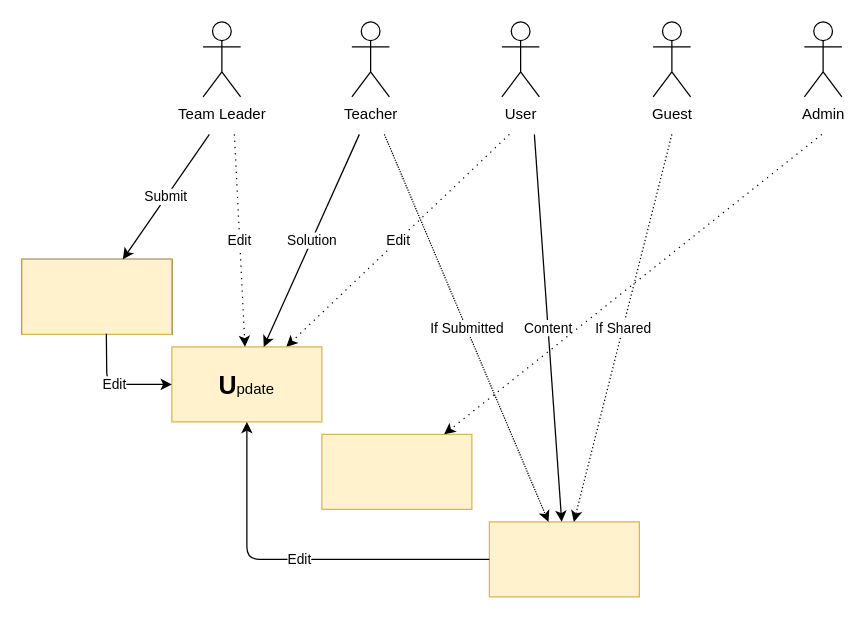
Some shapes in this 866 by 619 pixel diagram are drawn without their labels. Each missing label, with the centre of its shape:
"C reate" belongs at point (96, 296).
"D elete" belongs at point (396, 471).
"R ead" belongs at point (563, 559).
